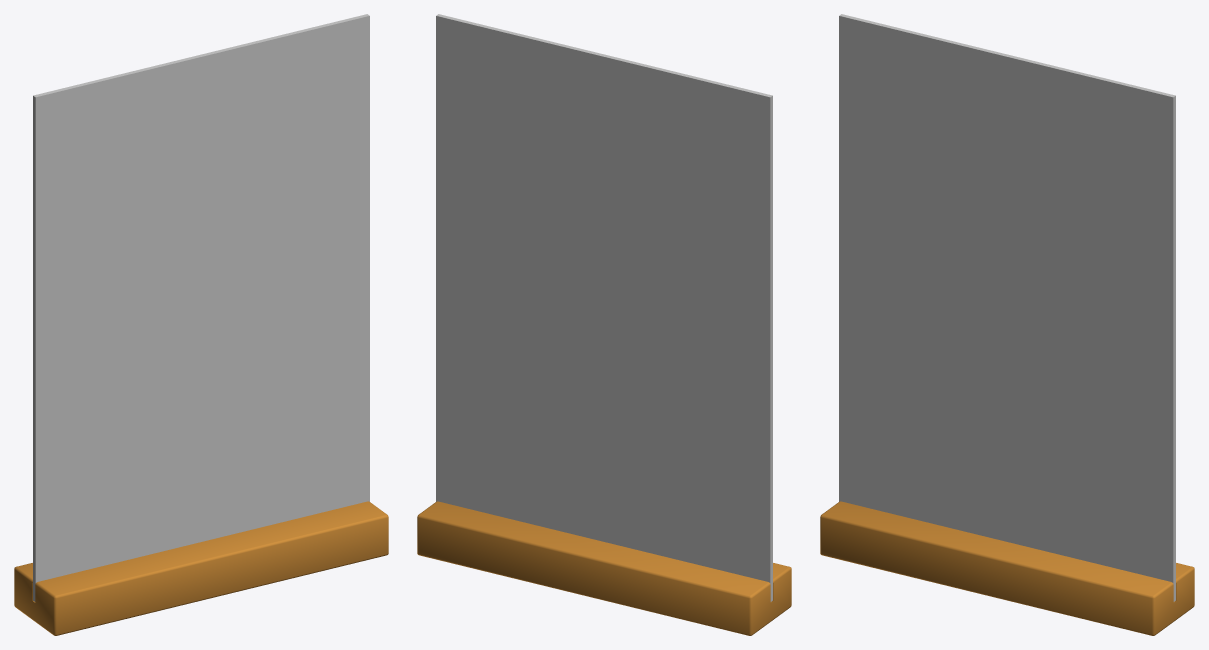
Rendered from Summer_Terrace_Menuholder.fbx.
The picture shows the model from 3 angles, left to right: view 1: azimuth 30°, elevation 25°; view 2: azimuth 150°, elevation 25°; view 3: azimuth 330°, elevation 25°; orthographic projection.
Visible parts, largest first — view 1: Summer_Terrace_Mehuholder; view 2: Summer_Terrace_Mehuholder; view 3: Summer_Terrace_Mehuholder.
Part boxes in pixels (bbox=[...]): Summer_Terrace_Mehuholder: bbox=[14, 14, 388, 635]; Summer_Terrace_Mehuholder: bbox=[417, 14, 791, 635]; Summer_Terrace_Mehuholder: bbox=[820, 14, 1194, 635].
Size of the model in its own units: 14 by 21 by 3.
